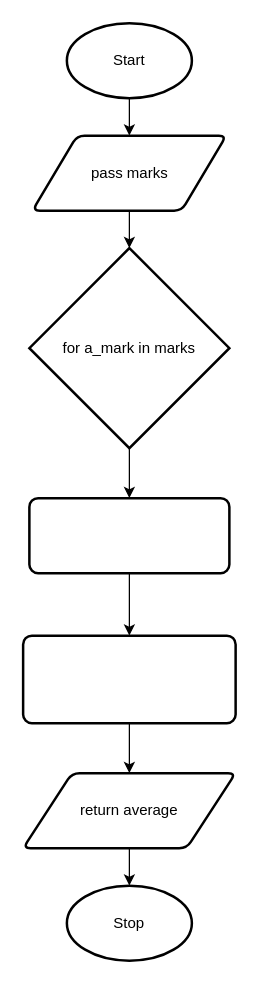
The diagram is 258 pixels wide and 983 high, and some of its shapes have lost their labels. Each missing label, with the centre of its shape:
"average = total / len(marks)" goes at (128,679).
"total = total + a+mark" goes at (129,535).
